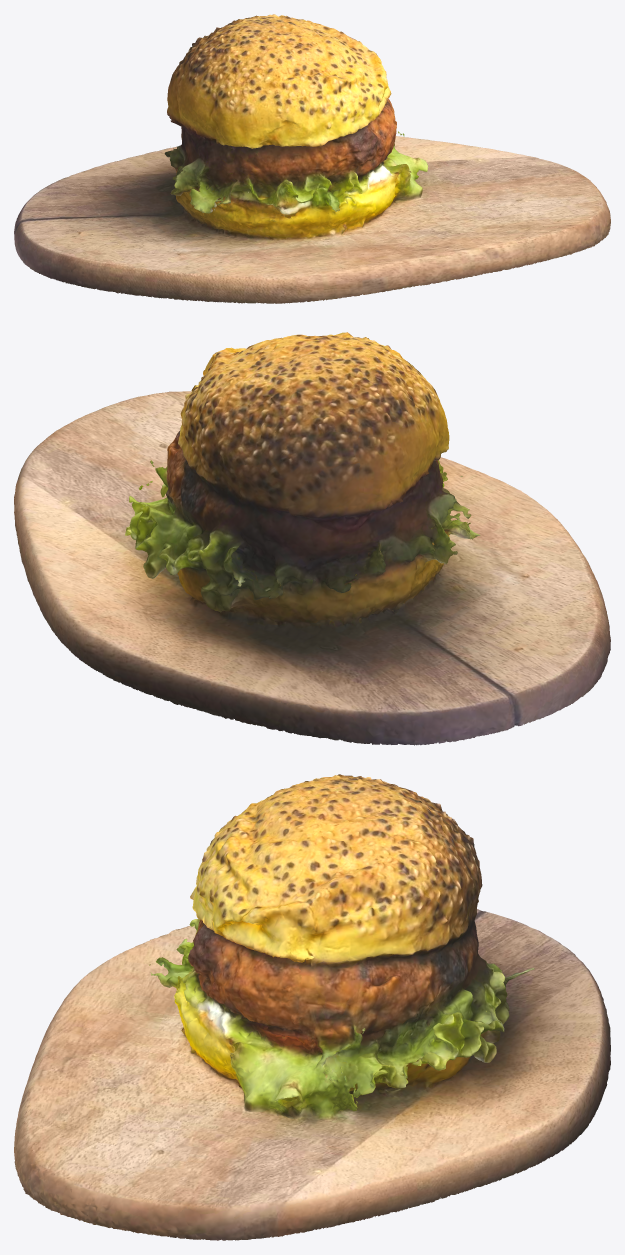
File: vegan-double-burger.glb
The picture shows the model from 3 angles, top to bottom: view 1: azimuth 30°, elevation 25°; view 2: azimuth 150°, elevation 25°; view 3: azimuth 270°, elevation 25°; orthographic projection. The views are drawn at different scales.
Parts seen in each view (by area): view 1: Model_material0_0; view 2: Model_material0_0; view 3: Model_material0_0.
Boxes of the visible parts, x1=… form: Model_material0_0: x1=14, y1=14, x2=610, y2=303; Model_material0_0: x1=14, y1=332, x2=610, y2=745; Model_material0_0: x1=14, y1=774, x2=610, y2=1240.
Size of the model in its own units: 0.24 by 0.0966 by 0.1829.
Materials: 1 (1 with a texture image).
